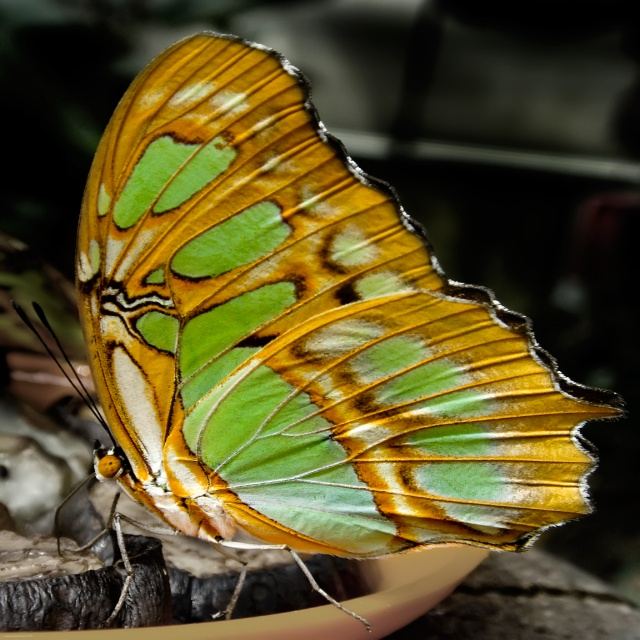Butterfly: (10, 31, 625, 633)
